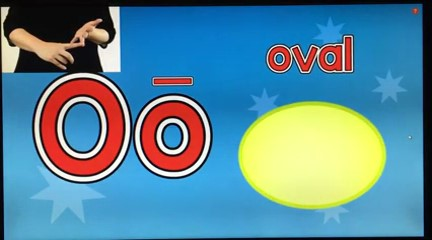O: (39, 16, 112, 71)
